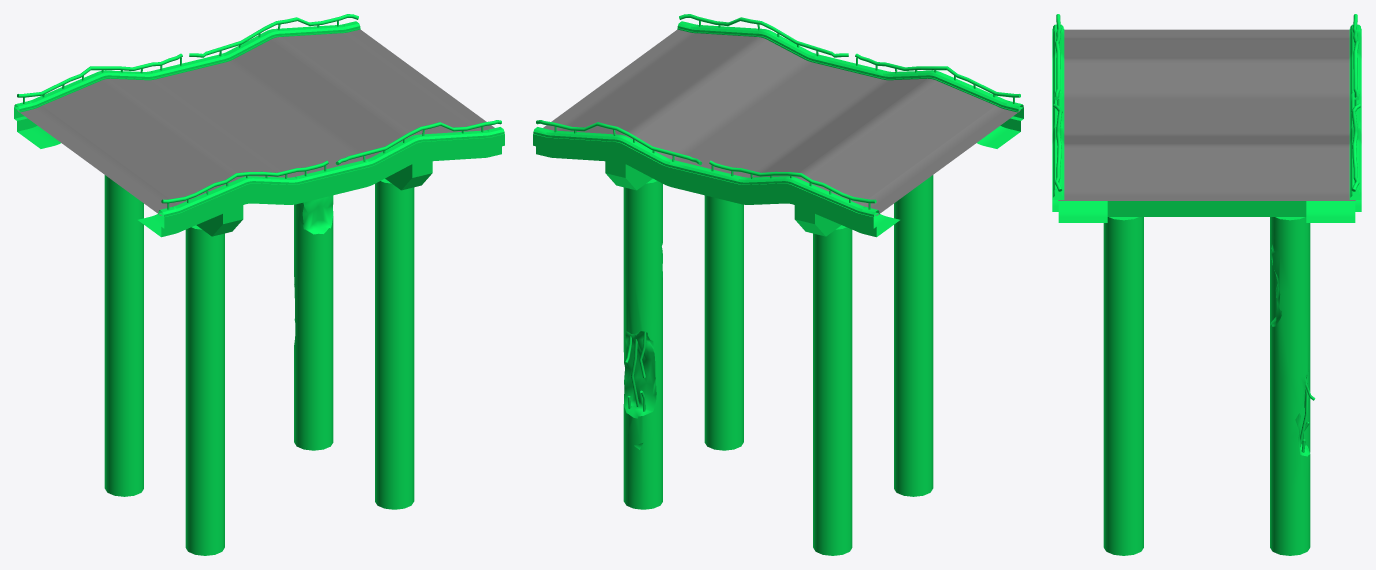
File: Track_Asphalt_06.fbx
3 views of the same model, side by side, from view 1: azimuth 30°, elevation 25°; view 2: azimuth 150°, elevation 25°; view 3: azimuth 270°, elevation 25° (orthographic). The views are drawn at different scales.
Parts seen in each view (by area): view 1: Track_Asphalt_06, Road; view 2: Track_Asphalt_06, Road; view 3: Road, Track_Asphalt_06.
Boxes of the visible parts, x1,y1,x2,y2 form: Track_Asphalt_06: (14, 14, 504, 555); Road: (17, 29, 494, 215); Track_Asphalt_06: (533, 14, 1023, 555); Road: (543, 29, 1020, 215); Road: (1058, 29, 1355, 200); Track_Asphalt_06: (1052, 14, 1361, 555).
Size of what is drawn, in the model's own units: 3004 by 2291 by 3358.
